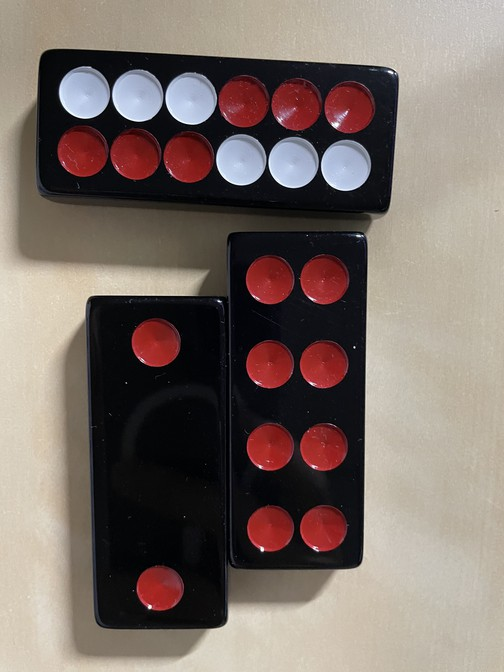earth: (85, 297, 226, 630)
heaven: (34, 49, 395, 217)
man: (224, 233, 365, 570)
